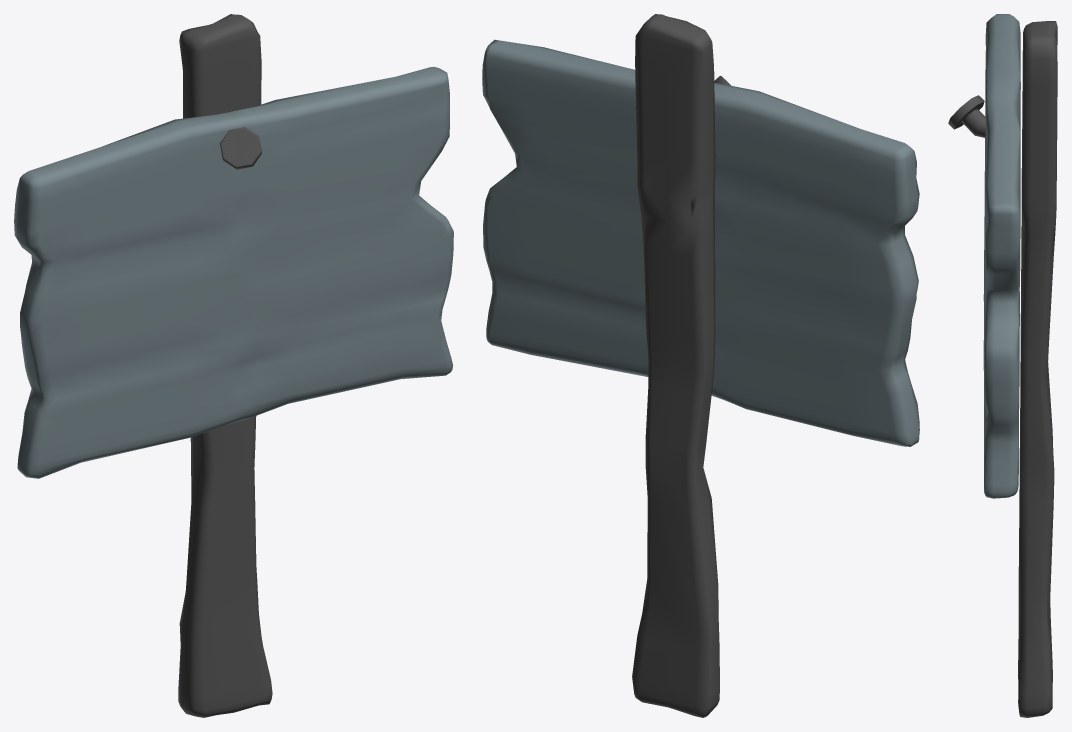
Rendered from sign (2).fbx.
3 views of the same model, side by side, from view 1: azimuth 30°, elevation 25°; view 2: azimuth 150°, elevation 25°; view 3: azimuth 270°, elevation 25° (orthographic). The views are drawn at different scales.
Visible parts, largest first — view 1: Pole, Pole.001; view 2: Pole, Pole.001; view 3: Pole.001, Pole.
Boxes of the visible parts, x1=… form: Pole: x1=14, y1=66, x2=453, y2=478; Pole.001: x1=178, y1=14, x2=272, y2=717; Pole: x1=482, y1=39, x2=919, y2=446; Pole.001: x1=632, y1=14, x2=719, y2=717; Pole.001: x1=1018, y1=21, x2=1057, y2=717; Pole: x1=948, y1=14, x2=1020, y2=498.
Bounding box in the file's own units: 212 × 326 × 48.1.
